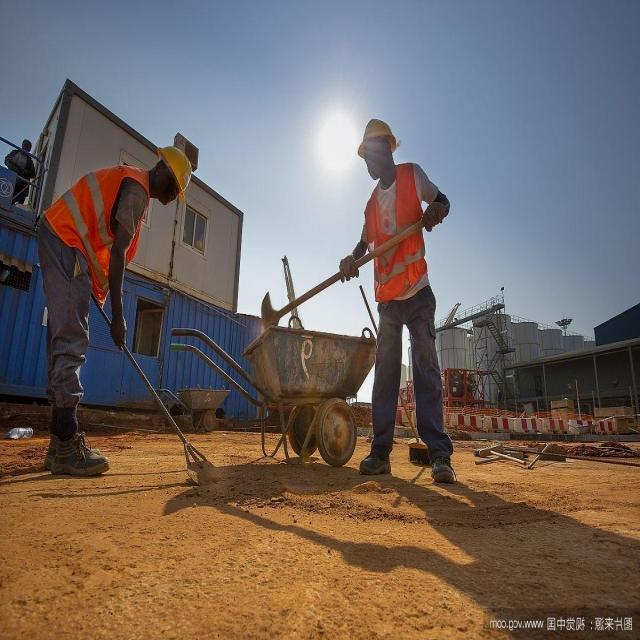helmet: (358, 123, 398, 153), (167, 142, 190, 194)
vest: (378, 184, 433, 304), (54, 170, 125, 252)
